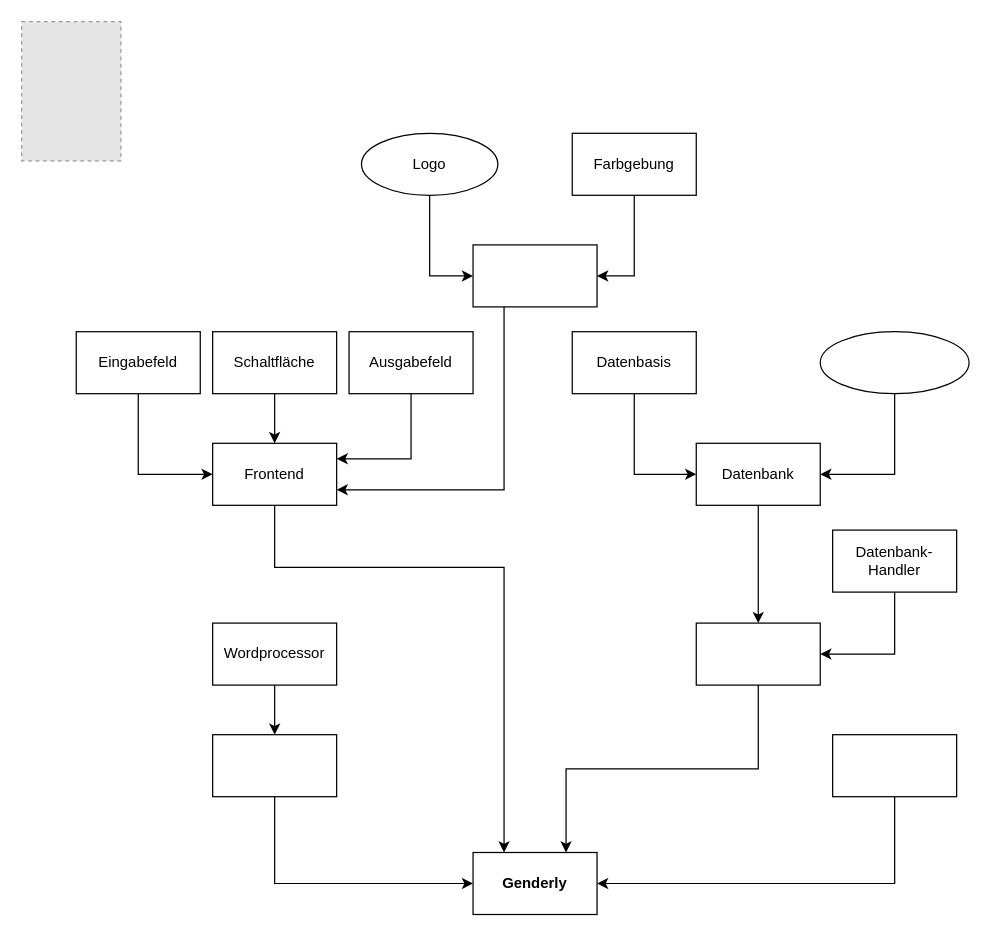
Image size: 991x936. Some labels were removed from this diagram. Grey dashed boxes stand in for pictures. Each missing label, with the box of its shape:
Controller: (211, 733, 337, 797)
Corporate Design: (472, 244, 597, 307)
DBMS: (819, 330, 969, 394)
Dokumentation: (831, 733, 957, 797)
Persistenz: (695, 622, 820, 685)
